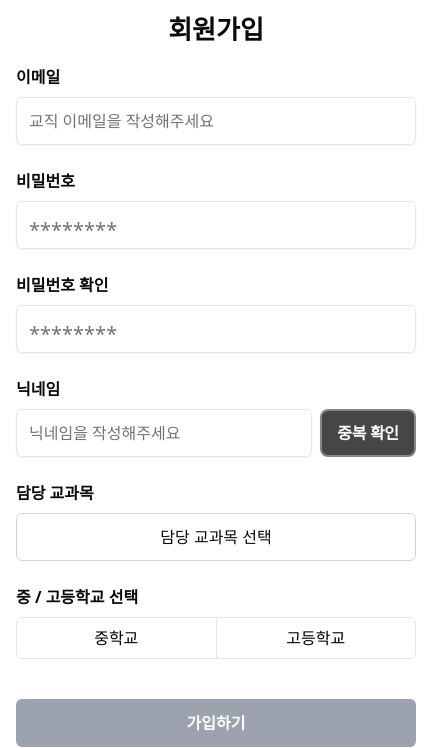
Test case: signup 컴포넌트 단위 테스트 › 교직 이메일이 아닌 경우 에러 메시지가 표시되고, 이메일 input의 border가 빨간색으로 변한다.
Type "test@daum.net" into the field labelled "이메일".
click(216, 121); type("test@daum.net")  # box [16,97,416,145]
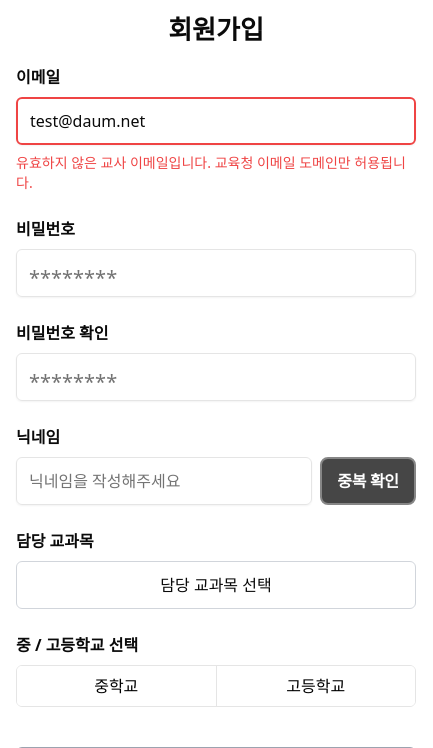
expect the text "유효하지 않은 교사 이메일입니다. 교육청 이메일 도메인만 허용됩니다." is shown: met, box [16,153,416,193]
